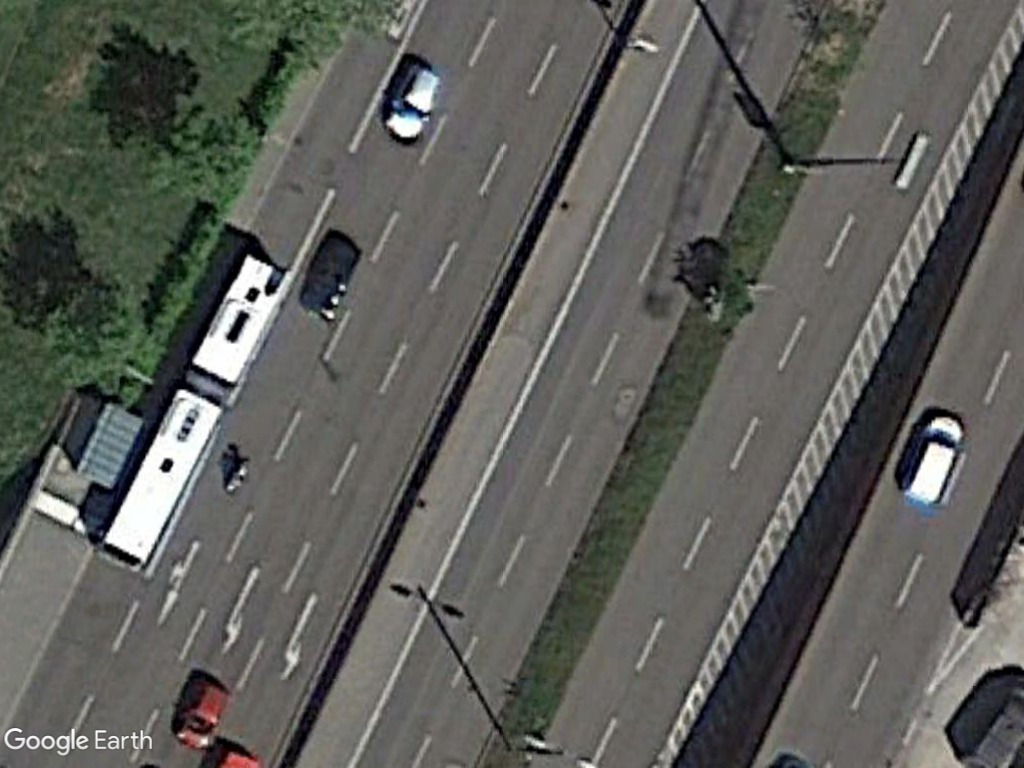bus: (94, 384, 224, 569), (185, 252, 292, 393)
car: (381, 62, 442, 149), (172, 675, 231, 752)
van: (893, 413, 969, 512)
